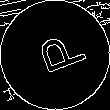P_W: (25, 29, 85, 81)
